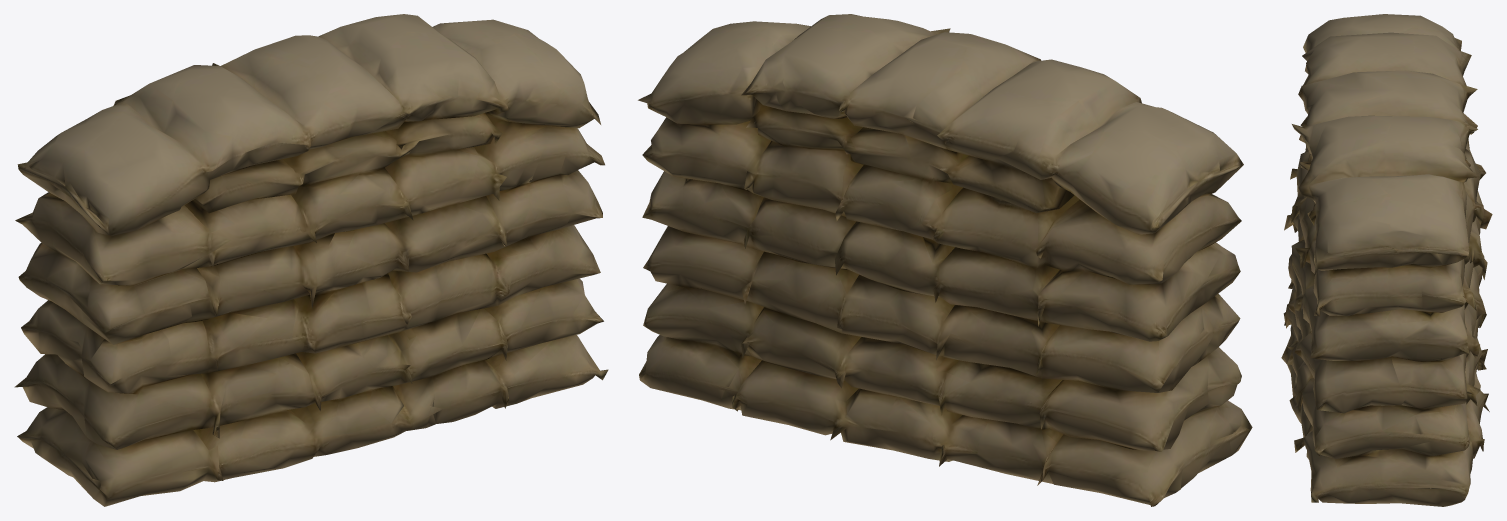
File: sandbags.glb
3 views of the same model, side by side, from view 1: azimuth 30°, elevation 25°; view 2: azimuth 150°, elevation 25°; view 3: azimuth 270°, elevation 25° (orthographic). The views are drawn at different scales.
Visible parts, largest first — view 1: tripo_node_7ed6c698-7857-4580-b78a-2a34a734bb38; view 2: tripo_node_7ed6c698-7857-4580-b78a-2a34a734bb38; view 3: tripo_node_7ed6c698-7857-4580-b78a-2a34a734bb38.
Part boxes in pixels (bbox=[...]): tripo_node_7ed6c698-7857-4580-b78a-2a34a734bb38: bbox=[14, 14, 608, 506]; tripo_node_7ed6c698-7857-4580-b78a-2a34a734bb38: bbox=[638, 14, 1252, 506]; tripo_node_7ed6c698-7857-4580-b78a-2a34a734bb38: bbox=[1281, 14, 1492, 506].
Bounding box in the file's own units: 1 × 0.6705 × 0.3995.
Materials: 1 (1 with a texture image).
